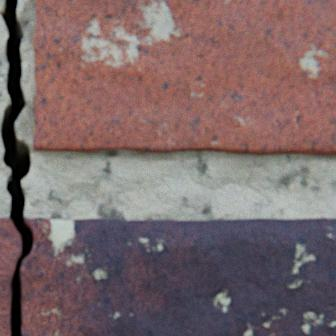brick: (33, 0, 335, 155)
broken_brick: (19, 218, 335, 335), (0, 218, 20, 335)
crack: (0, 0, 33, 335)
